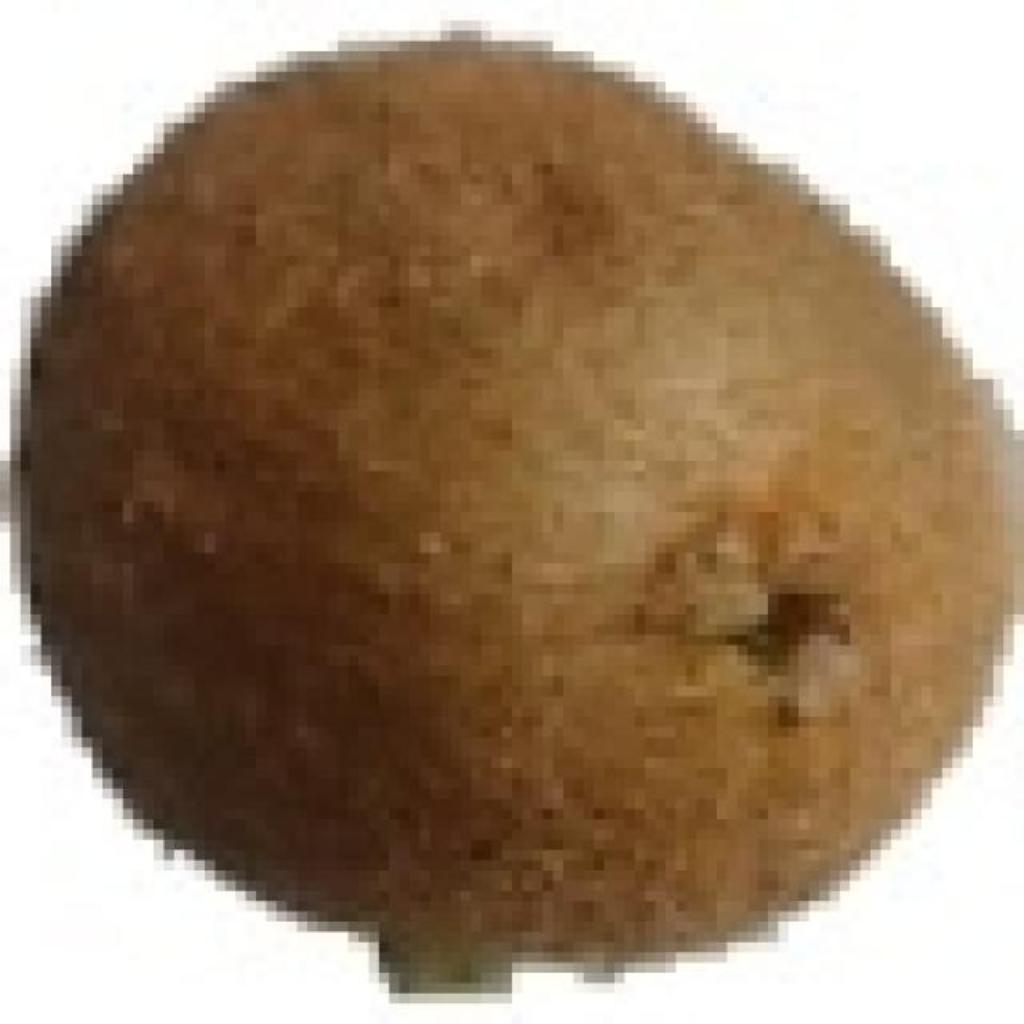kiwi: (41, 31, 1014, 973), (61, 932, 195, 1004)
